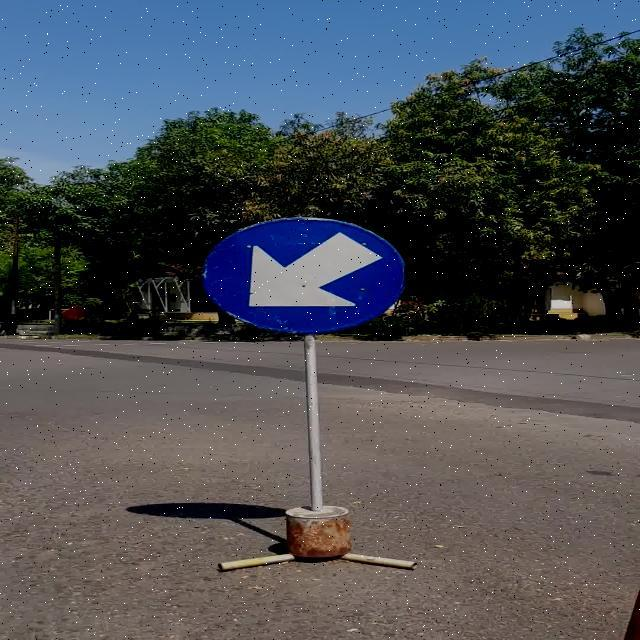Lajur Kiri: (201, 217, 405, 332)
